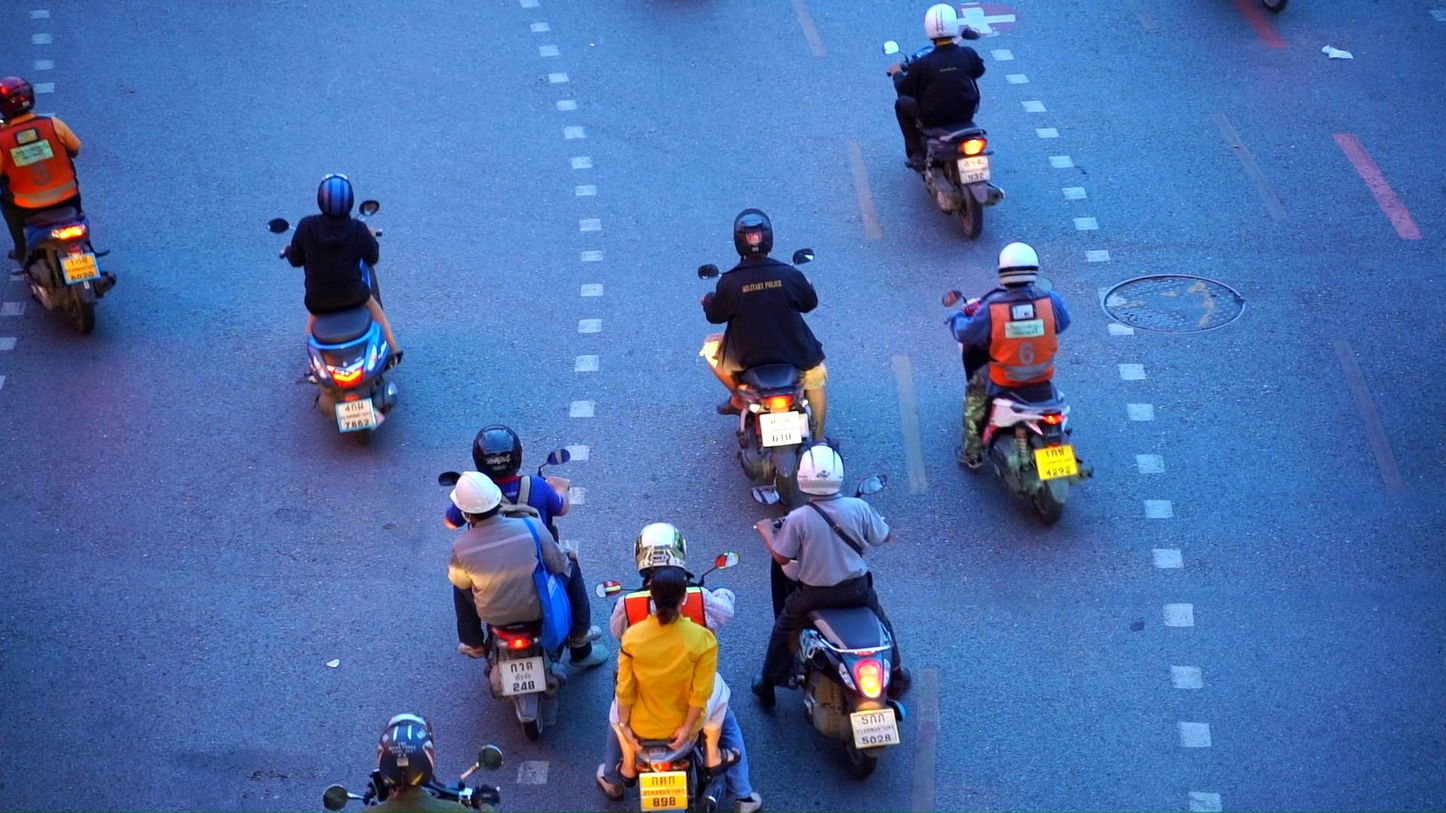driver: (438, 423, 610, 741), (750, 441, 911, 779), (595, 522, 762, 813), (697, 208, 840, 514), (943, 241, 1094, 526), (268, 172, 404, 446), (0, 75, 117, 335), (881, 3, 1005, 240), (322, 713, 505, 813)
helmet: (377, 713, 436, 793), (449, 471, 503, 530), (633, 522, 687, 578), (472, 424, 523, 480), (796, 442, 845, 497), (734, 208, 773, 263), (997, 241, 1040, 288), (317, 172, 354, 219), (0, 75, 36, 119), (924, 3, 959, 41)
no-helmet: (651, 566, 688, 627)
